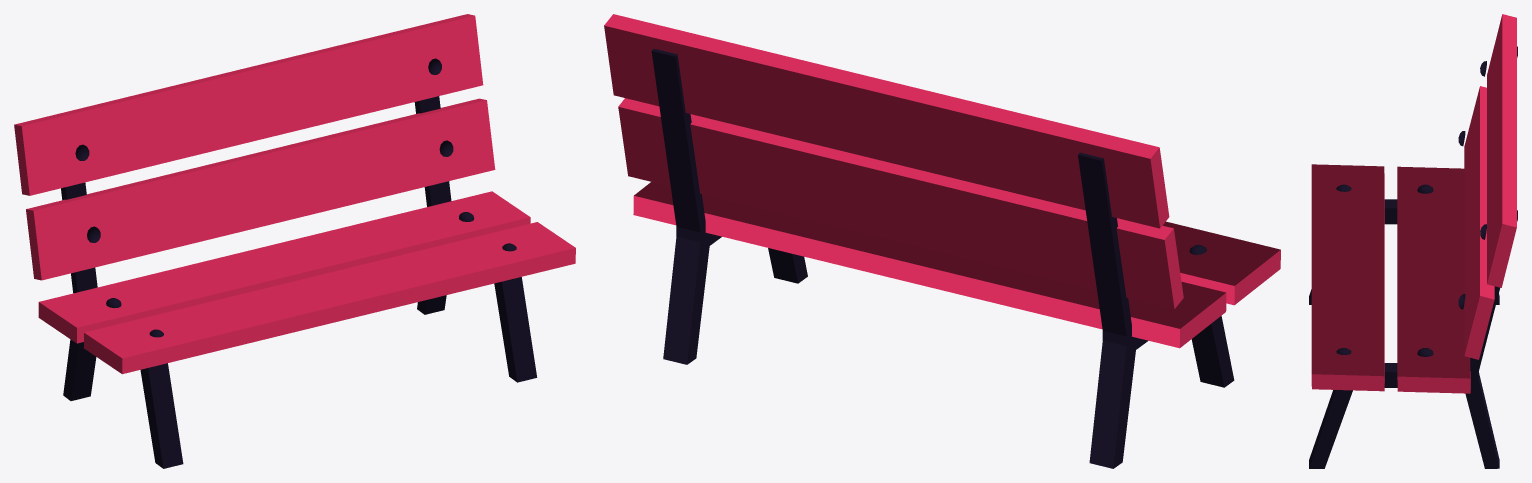
Rendered from bench.fbx.
3 views of the same model, side by side, from view 1: azimuth 30°, elevation 25°; view 2: azimuth 150°, elevation 25°; view 3: azimuth 270°, elevation 25° (orthographic). The views are drawn at different scales.
Parts seen in each view (by area): view 1: Box004, Sphere002; view 2: Box004, Sphere002; view 3: Box004, Sphere002.
Part boxes in pixels (left/top/right/bottom): Box004: left=14, top=14, right=575, bottom=374; Sphere002: left=61, top=58, right=537, bottom=468; Box004: left=604, top=14, right=1280, bottom=348; Sphere002: left=651, top=48, right=1234, bottom=468; Box004: left=1311, top=14, right=1516, bottom=393; Sphere002: left=1309, top=46, right=1517, bottom=468.
Size of the model in its own units: 53.92 by 31.58 by 22.66.
